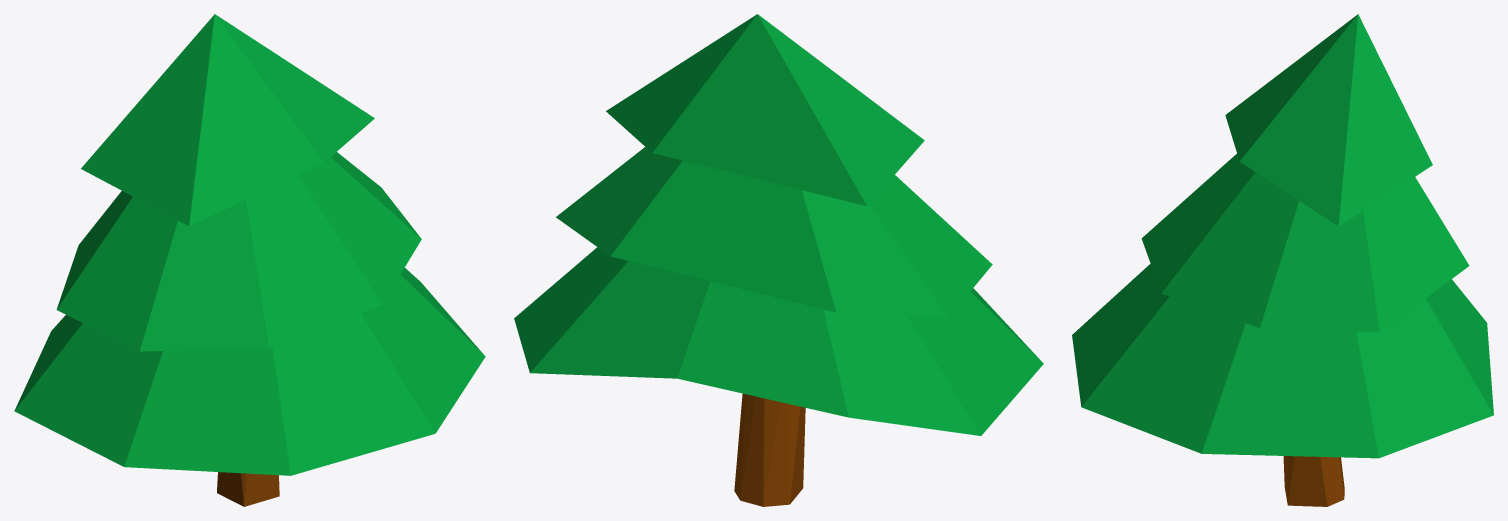
The model's file is tree_1.fbx.
The picture shows the model from 3 angles, left to right: view 1: azimuth 30°, elevation 25°; view 2: azimuth 150°, elevation 25°; view 3: azimuth 270°, elevation 25°; orthographic projection. The views are drawn at different scales.
Visible parts, largest first — view 1: Circle; view 2: Circle; view 3: Circle.
Boxes of the visible parts, x1=… form: Circle: x1=14, y1=14, x2=485, y2=506; Circle: x1=514, y1=14, x2=1043, y2=506; Circle: x1=1072, y1=14, x2=1493, y2=506.
Bounding box in the file's own units: 958 × 1013 × 813.
